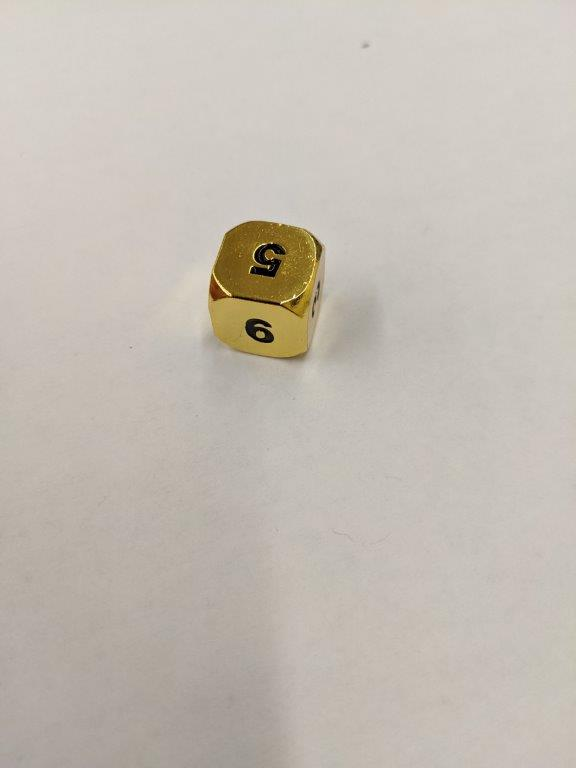d6-5: (205, 217, 323, 357)
